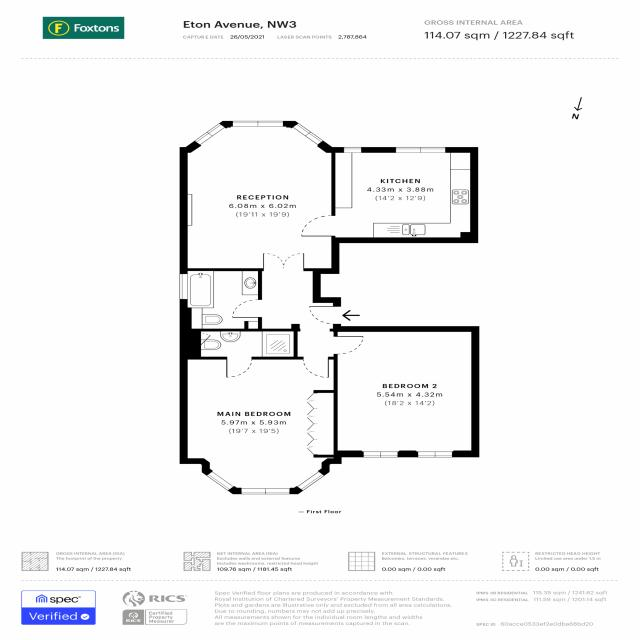DOOR: (307, 305, 341, 325), (301, 356, 330, 379), (225, 356, 253, 379), (333, 335, 364, 355), (231, 298, 262, 318)
DOUBLE DOOR: (263, 251, 305, 271)
ROOM: (179, 121, 340, 274), (179, 357, 342, 495), (333, 326, 480, 458), (301, 147, 479, 243)
WINDOW: (300, 215, 335, 237), (193, 123, 226, 146), (292, 122, 324, 145), (295, 471, 325, 492), (205, 471, 235, 492), (240, 487, 291, 495), (232, 120, 284, 127), (395, 147, 446, 153), (362, 451, 399, 458), (417, 451, 453, 458), (179, 274, 188, 300), (343, 147, 362, 153)
